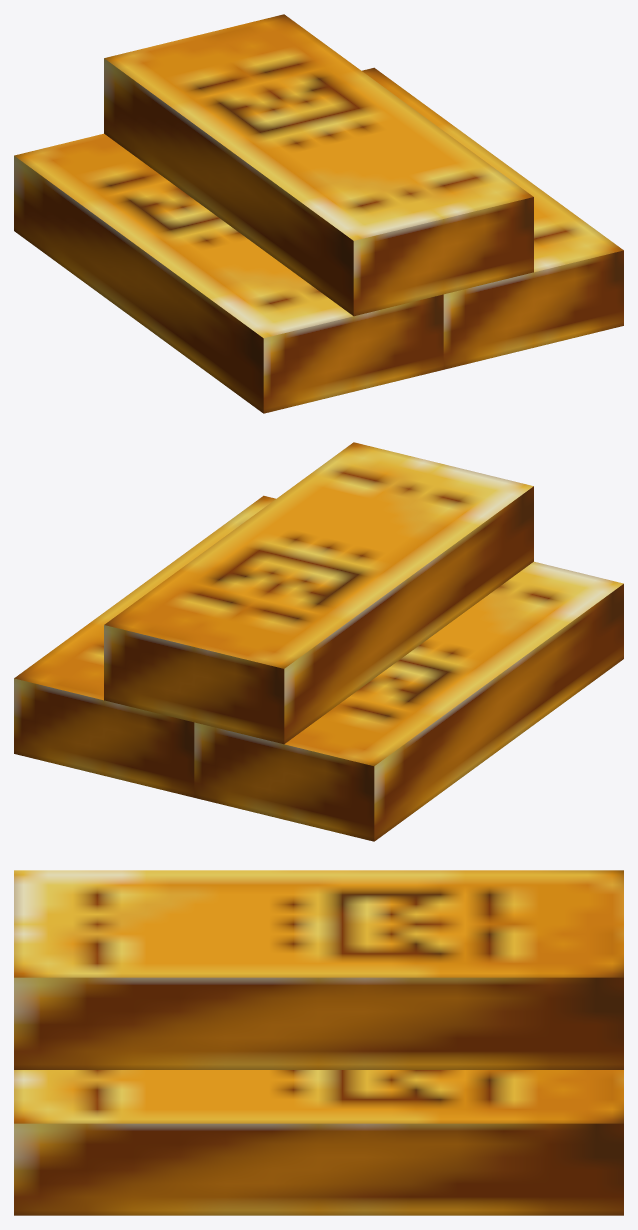
Rendered from goldbars.glb.
3 views of the same model, one above another, from view 1: azimuth 30°, elevation 25°; view 2: azimuth 150°, elevation 25°; view 3: azimuth 270°, elevation 25° (orthographic). The views are drawn at different scales.
Parts seen in each view (by area): view 1: cube.001, cube.000, cube; view 2: cube.001, cube.000, cube; view 3: cube.001, cube.
Part boxes in pixels (<box>): cube.001: <box>104,14,533,316</box>; cube.000: <box>14,133,443,413</box>; cube: <box>362,67,623,369</box>; cube.001: <box>104,442,533,744</box>; cube.000: <box>194,561,623,841</box>; cube: <box>14,495,275,797</box>; cube.001: <box>14,870,623,1069</box>; cube: <box>14,1070,623,1215</box>.
Bounding box in the file's own units: 0.625 × 0.25 × 0.75.
Materials: 1 (1 with a texture image).
